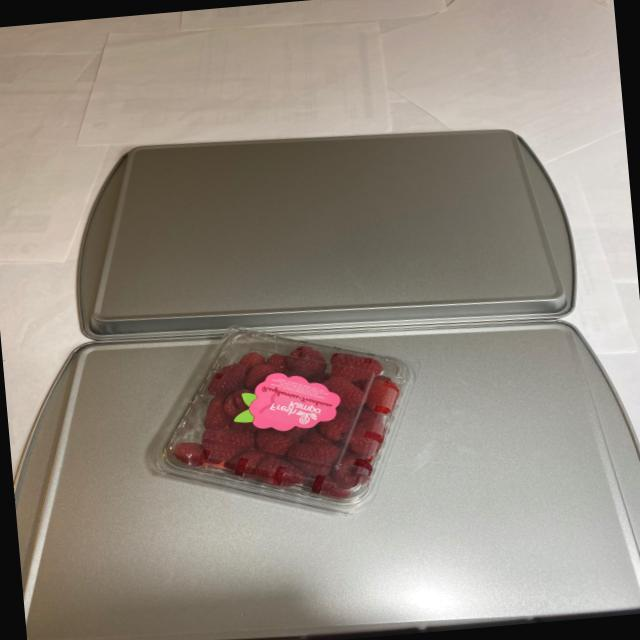raspberries: (160, 340, 406, 500)
